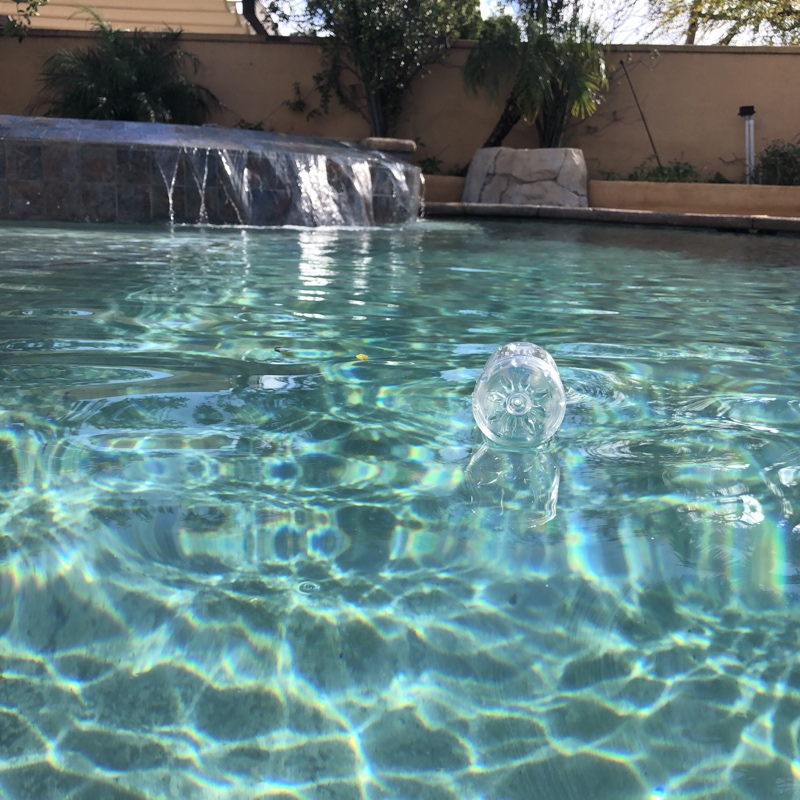Plastic Bottle: (468, 339, 566, 450)
